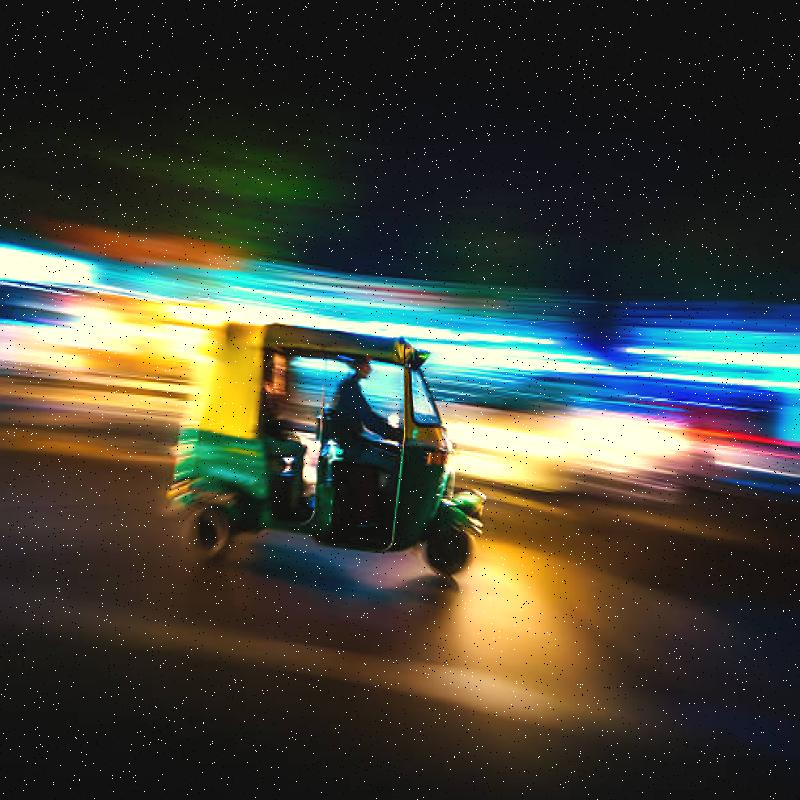auto: (156, 320, 503, 597)
